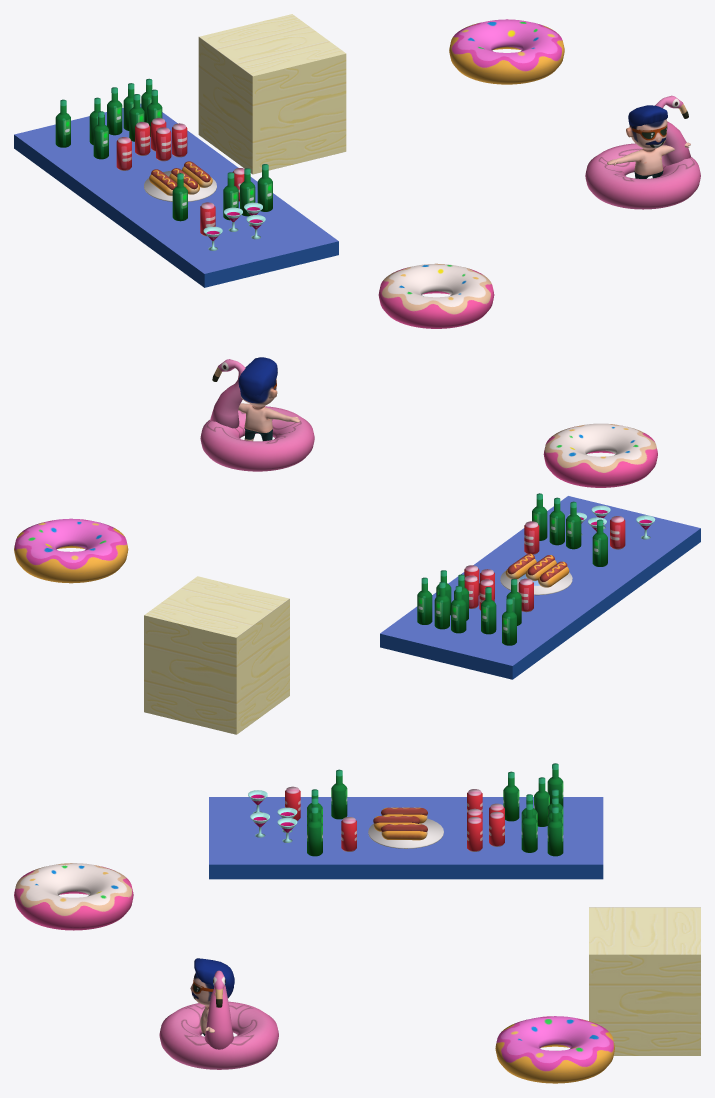
Rendered from All Objects3.fbx.
3 renders of one model, top to bottom at view 1: azimuth 30°, elevation 25°; view 2: azimuth 150°, elevation 25°; view 3: azimuth 270°, elevation 25°, orthographic. The views are drawn at different scales.
Visible parts, largest first — view 1: Cube.006, Cube.003, Cube.012, Cube.005, Cube.010, cartoon look.001, Cube.011, Cube.007, Cube.030, Cube.029, Cube.033, Cube.008 (+6 smaller); view 2: Cube.006, Cube.003, Cube.005, Cube.012, Cube.010, cartoon look.001, Cube.011, Cube.007, Cube.024, Cube.014, Cube.025, Cube.033 (+4 smaller); view 3: Cube.006, Cube.003, Cube.005, Cube.012, Cube.010, Cube.011, cartoon look.001, Cube.007, Cube.001, Cube.033, Cube.014, Cube.023 (+6 smaller).
Part boxes in pixels (<box>): Cube.006: <box>14,103,338,287</box>; Cube.003: <box>198,14,346,174</box>; Cube.012: <box>449,19,564,84</box>; Cube.005: <box>378,263,494,328</box>; Cube.010: <box>585,143,700,209</box>; cartoon look.001: <box>607,105,690,178</box>; Cube.011: <box>655,95,691,165</box>; Cube.007: <box>144,170,216,201</box>; Cube.030: <box>93,111,108,159</box>; Cube.029: <box>55,99,70,147</box>; Cube.033: <box>172,173,187,221</box>; Cube.008: <box>107,87,122,135</box>; Cube.006: <box>380,496,700,679</box>; Cube.003: <box>144,576,289,734</box>; Cube.005: <box>543,423,657,487</box>; Cube.012: <box>14,518,128,583</box>; Cube.010: <box>200,406,314,471</box>; cartoon look.001: <box>238,357,300,441</box>; Cube.011: <box>210,359,245,428</box>; Cube.007: <box>500,571,572,595</box>; Cube.024: <box>566,501,581,549</box>; Cube.014: <box>417,577,432,624</box>; Cube.025: <box>549,497,564,545</box>; Cube.033: <box>592,519,607,566</box>; Cube.006: <box>209,797,603,879</box>; Cube.003: <box>589,907,700,1055</box>; Cube.005: <box>14,863,133,930</box>; Cube.012: <box>495,1016,614,1083</box>; Cube.010: <box>159,1001,278,1069</box>; Cube.011: <box>204,970,233,1049</box>; cartoon look.001: <box>190,958,234,1035</box>; Cube.007: <box>368,818,443,848</box>; Cube.001: <box>381,824,427,840</box>; Cube.033: <box>331,769,347,819</box>; Cube.014: <box>547,806,563,856</box>; Cube.023: <box>521,803,537,852</box>.
Size of the model in its own units: 7831 by 2165 by 8663.
4 materials, 4 textured.
